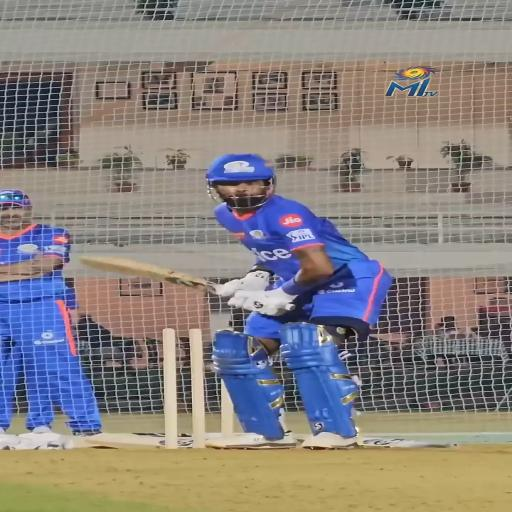Cricket bat: (80, 256, 219, 296)
